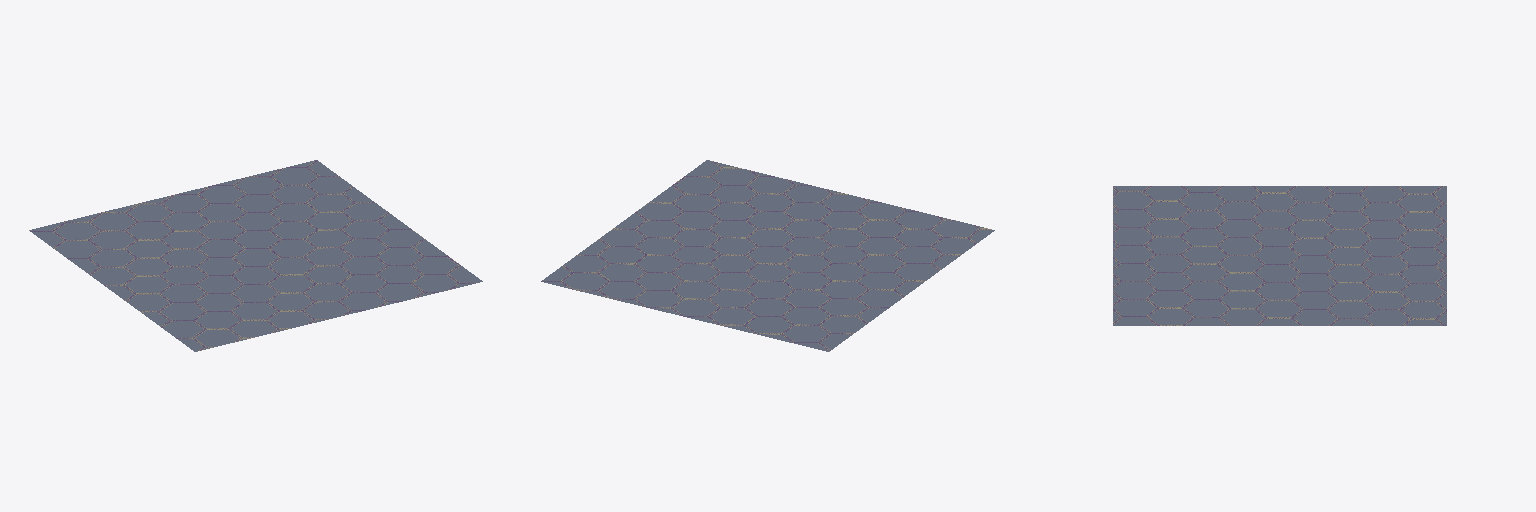
3 views of the same model, side by side, from view 1: azimuth 30°, elevation 25°; view 2: azimuth 150°, elevation 25°; view 3: azimuth 270°, elevation 25° (orthographic).
Visible parts, largest first — view 1: 平面; view 2: 平面; view 3: 平面.
Part boxes in pixels (x1,y1,x2,y2): 平面: (29,160,482,351); 平面: (541,160,994,351); 平面: (1113,186,1446,325).
Bounding box in the file's own units: 140 × 0 × 140.
Materials: 1 (1 with a texture image).